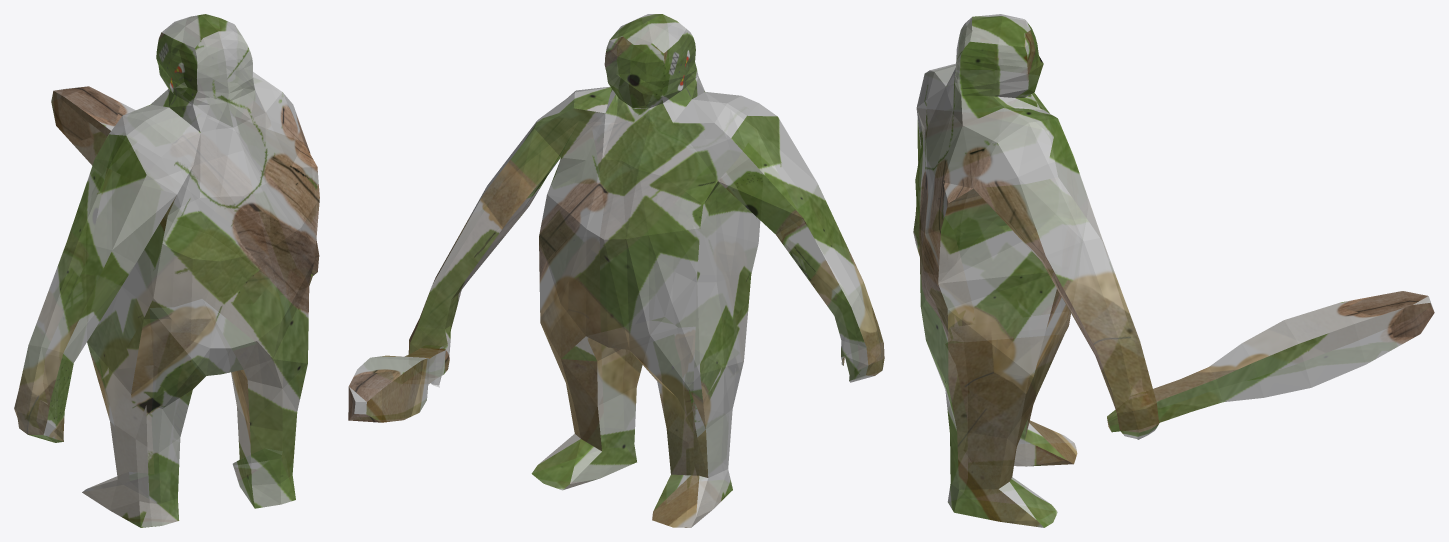
File: Enemigo224.obj
3 views of the same model, side by side, from view 1: azimuth 30°, elevation 25°; view 2: azimuth 150°, elevation 25°; view 3: azimuth 270°, elevation 25° (orthographic). The views are drawn at different scales.
Parts seen in each view (by area): view 1: Cube; view 2: Cube; view 3: Cube.
Part boxes in pixels (x1,y1,x2,y2): Cube: [14, 14, 319, 527]; Cube: [348, 14, 884, 527]; Cube: [913, 14, 1434, 527].
Bounding box in the file's own units: 2.26 × 2.71 × 2.72.
Materials: 1 (1 with a texture image).
